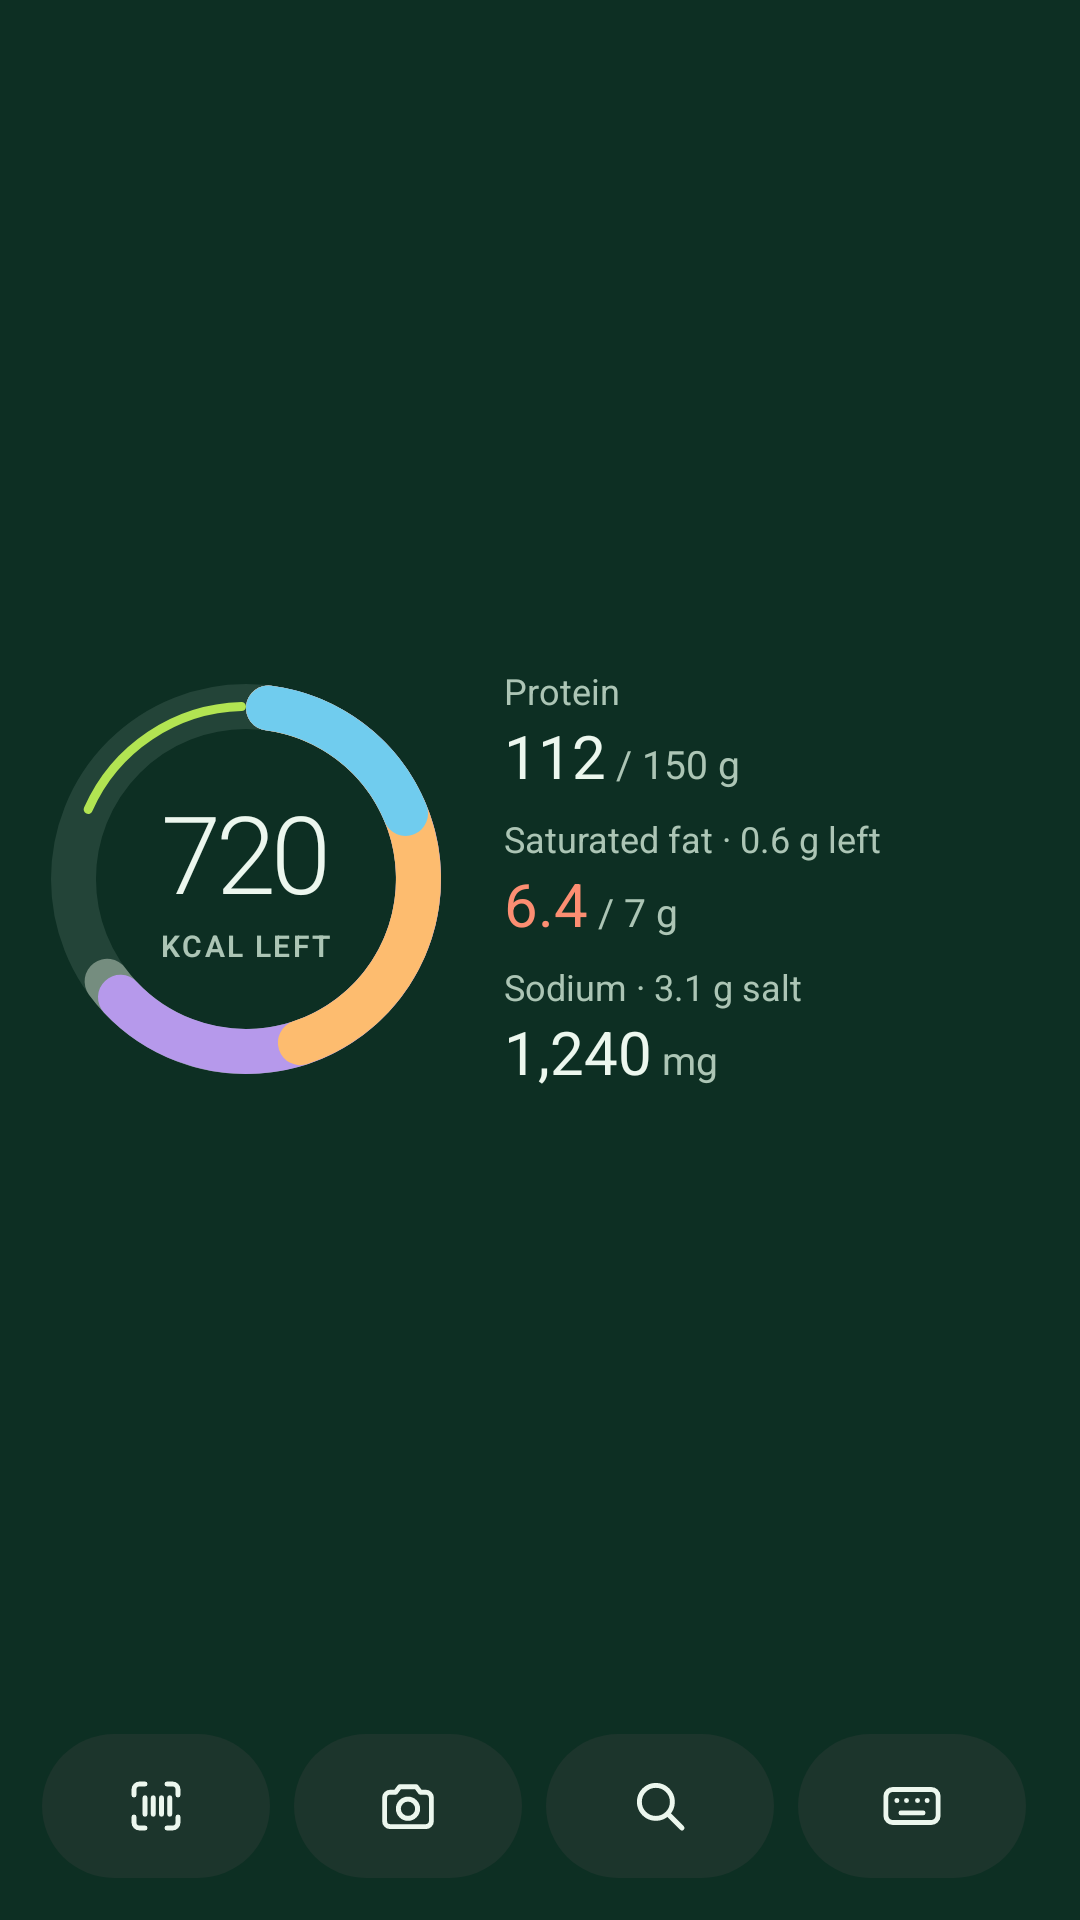

Screen size 1080px×1920px. Icon name, then its center in pixels as (x=x, y=y):
photo: (x=408, y=1806)
scan: (x=156, y=1806)
search: (x=660, y=1806)
type: (x=912, y=1806)
